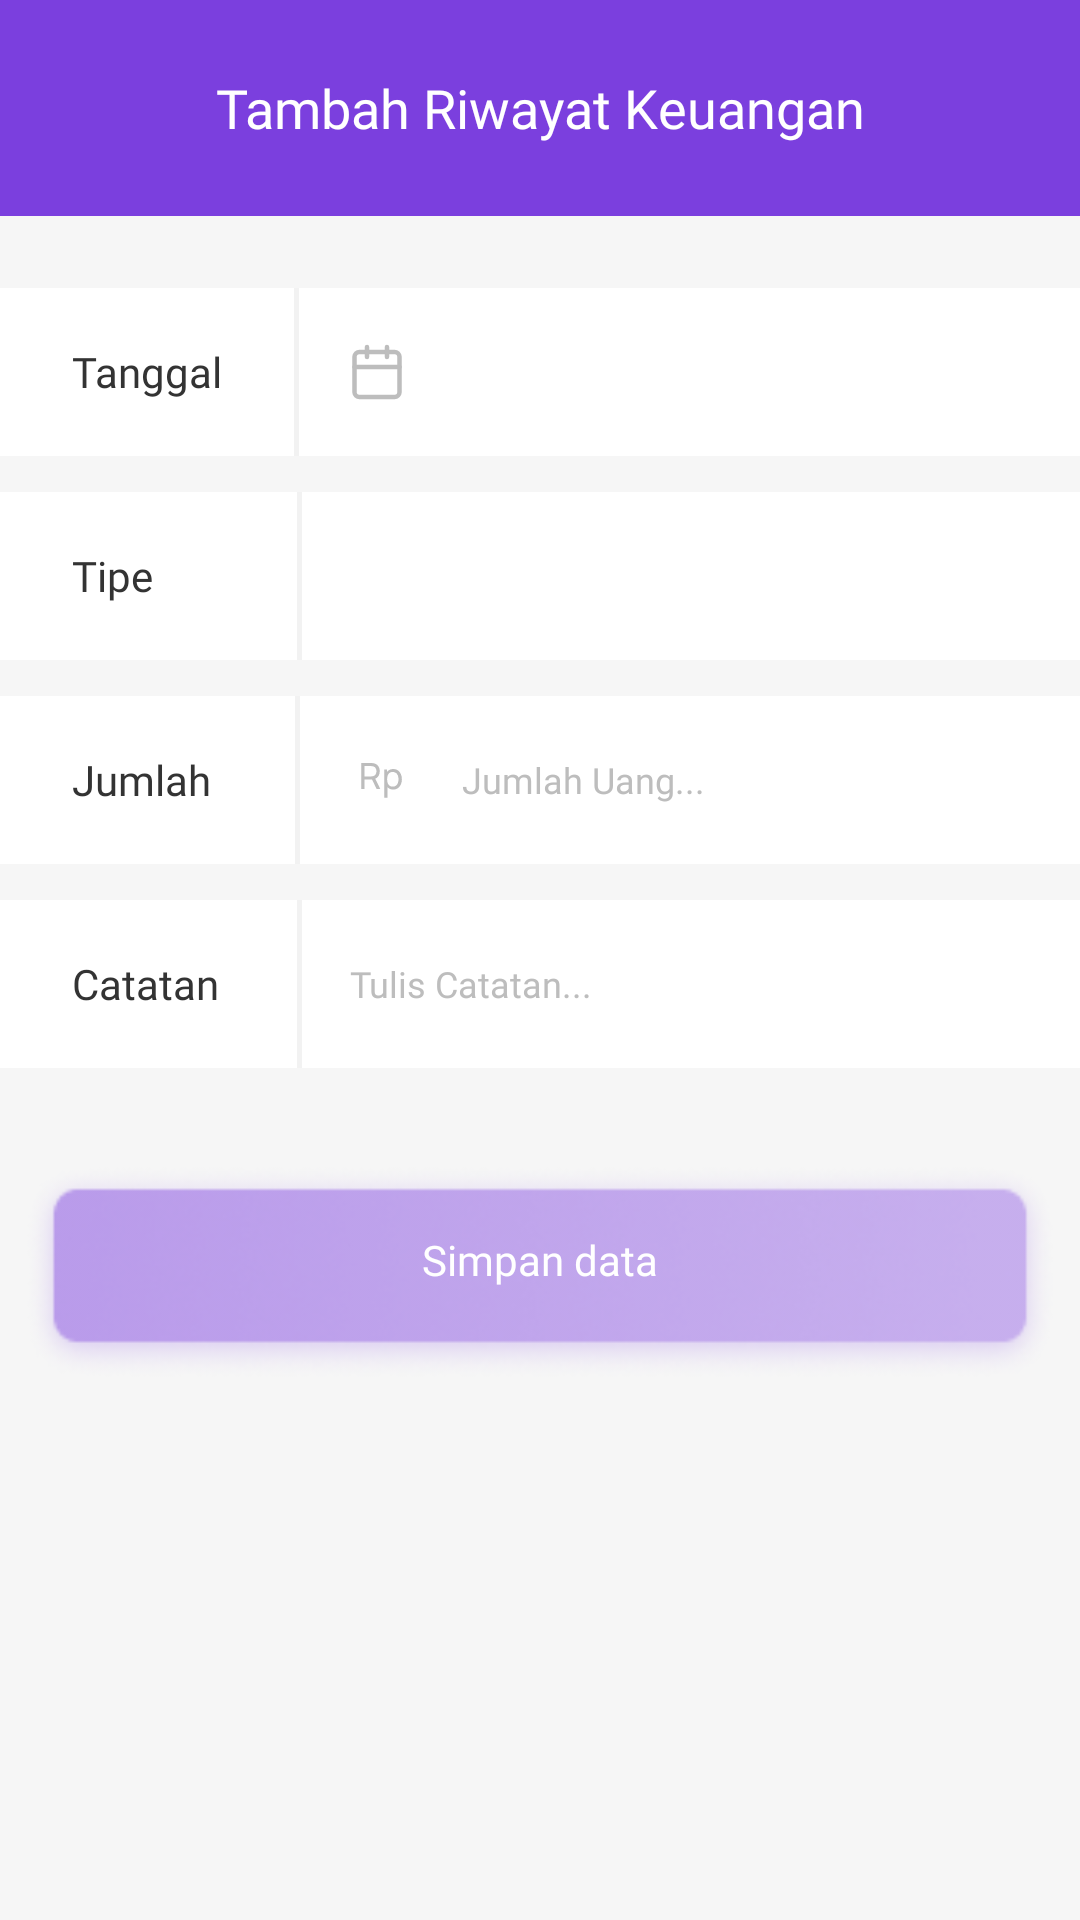

Screen size 1080*1920. Icon name, then its center in pixels as [x,y]:
calendar: [377,372]
